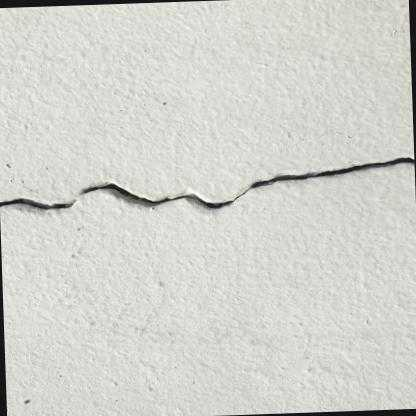crack: (0, 156, 415, 210)
